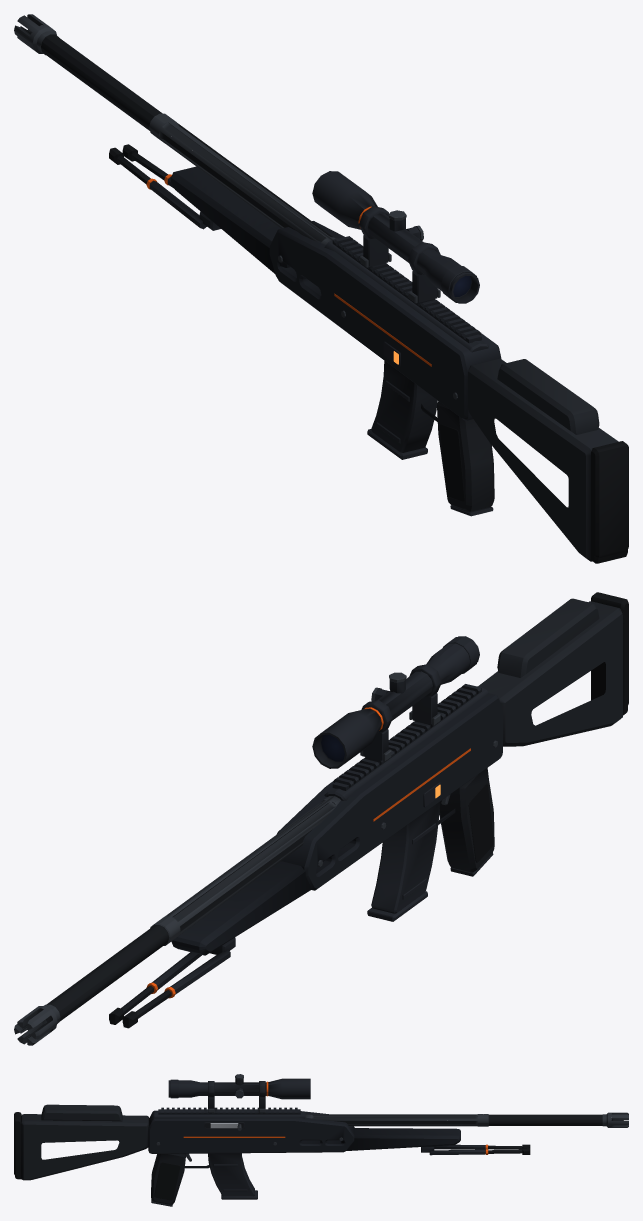
The model's file is dragunov-svd.glb.
3 views of the same model, one above another, from view 1: azimuth 30°, elevation 25°; view 2: azimuth 150°, elevation 25°; view 3: azimuth 270°, elevation 25° (orthographic). The views are drawn at different scales.
Visible parts, largest first — view 1: body_frame, body_furn, body_frame2, body_steel, body_rubber, mag_frame2, body_polymer; view 2: body_frame, body_furn, body_frame2, body_steel, mag_frame2, body_rubber, body_polymer; view 3: body_frame, body_furn, body_frame2, body_steel, mag_frame2, body_rubber, body_polymer, body_accent.
Part boxes in pixels (left/top/right/bottom): body_frame: left=170, top=166, right=501, bottom=420; body_furn: left=468, top=358, right=618, bottom=561; body_frame2: left=149, top=171, right=493, bottom=516; body_steel: left=14, top=14, right=457, bottom=399; body_rubber: left=109, top=144, right=628, bottom=563; mag_frame2: left=367, top=361, right=437, bottom=459; body_polymer: left=437, top=401, right=494, bottom=511; body_frame: left=171, top=693, right=502, bottom=955; body_furn: left=479, top=598, right=622, bottom=746; body_frame2: left=152, top=636, right=493, bottom=994; body_steel: left=14, top=672, right=497, bottom=1045; mag_frame2: left=367, top=802, right=439, bottom=921; body_rubber: left=109, top=592, right=628, bottom=1028; body_polymer: left=439, top=768, right=494, bottom=872; body_frame: left=148, top=1110, right=460, bottom=1153; body_furn: left=21, top=1104, right=149, bottom=1180; body_frame2: left=151, top=1078, right=485, bottom=1206; body_steel: left=156, top=1074, right=628, bottom=1161; mag_frame2: left=208, top=1153, right=257, bottom=1199; body_rubber: left=14, top=1112, right=530, bottom=1200; body_polymer: left=151, top=1153, right=185, bottom=1204; body_accent: left=183, top=1081, right=488, bottom=1154.
Bounding box in the file's own units: 0.067 × 0.2784 × 1.21.
